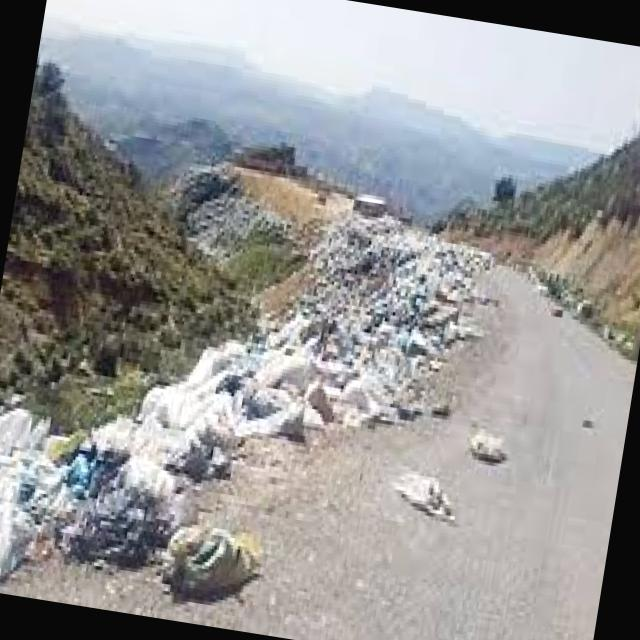garbage: (0, 296, 368, 640), (268, 197, 541, 538)
